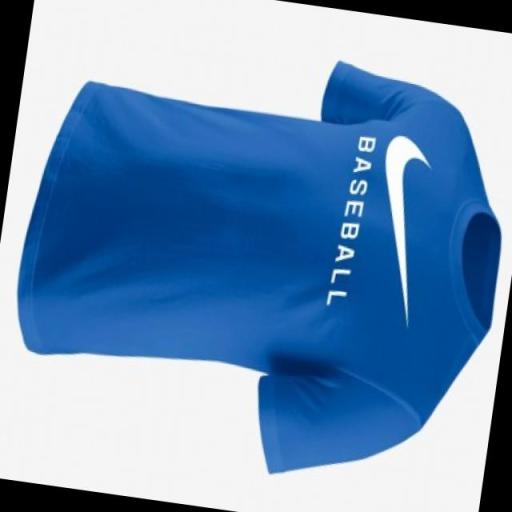Nike: (353, 118, 444, 340)
